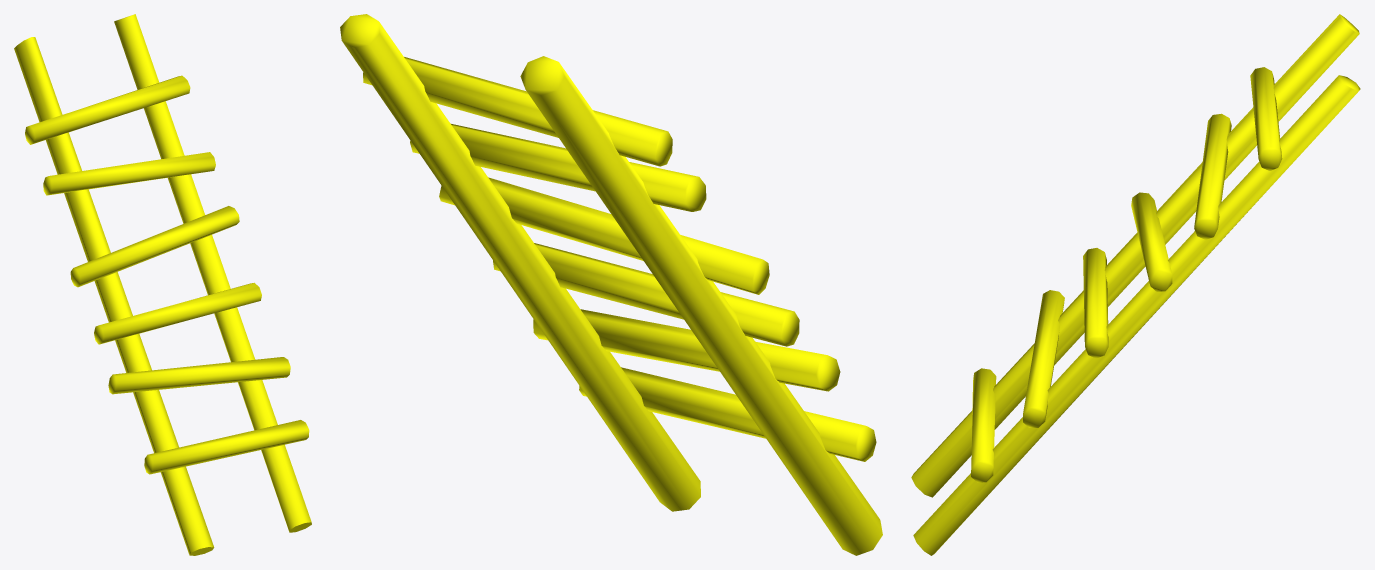
The model's file is camp_woodhut_ladder00.glb.
The picture shows the model from 3 angles, left to right: view 1: azimuth 30°, elevation 25°; view 2: azimuth 150°, elevation 25°; view 3: azimuth 270°, elevation 25°; orthographic projection. The views are drawn at different scales.
Parts seen in each view (by area): view 1: camp_woodhut_ladder00; view 2: camp_woodhut_ladder00; view 3: camp_woodhut_ladder00.
Boxes of the visible parts, box(x1,y1,x2,y2) form: camp_woodhut_ladder00: box(14, 14, 311, 555); camp_woodhut_ladder00: box(340, 14, 882, 555); camp_woodhut_ladder00: box(911, 14, 1360, 555).
Bounding box in the file's own units: 2.91 × 6.49 × 5.51.
Materials: 1 (1 with a texture image).
